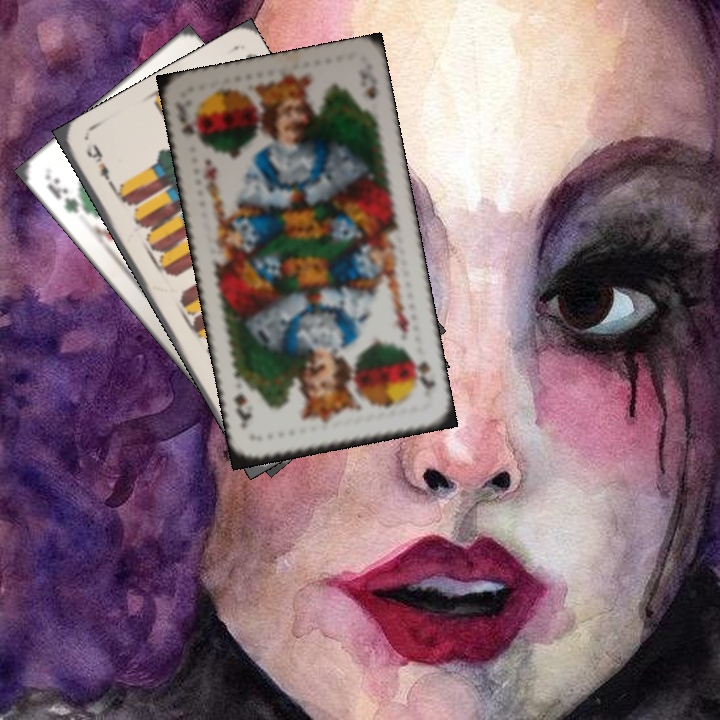E9: (82, 138, 119, 193)
GK: (42, 173, 93, 217)
SK: (407, 351, 438, 401), (175, 113, 205, 149)
